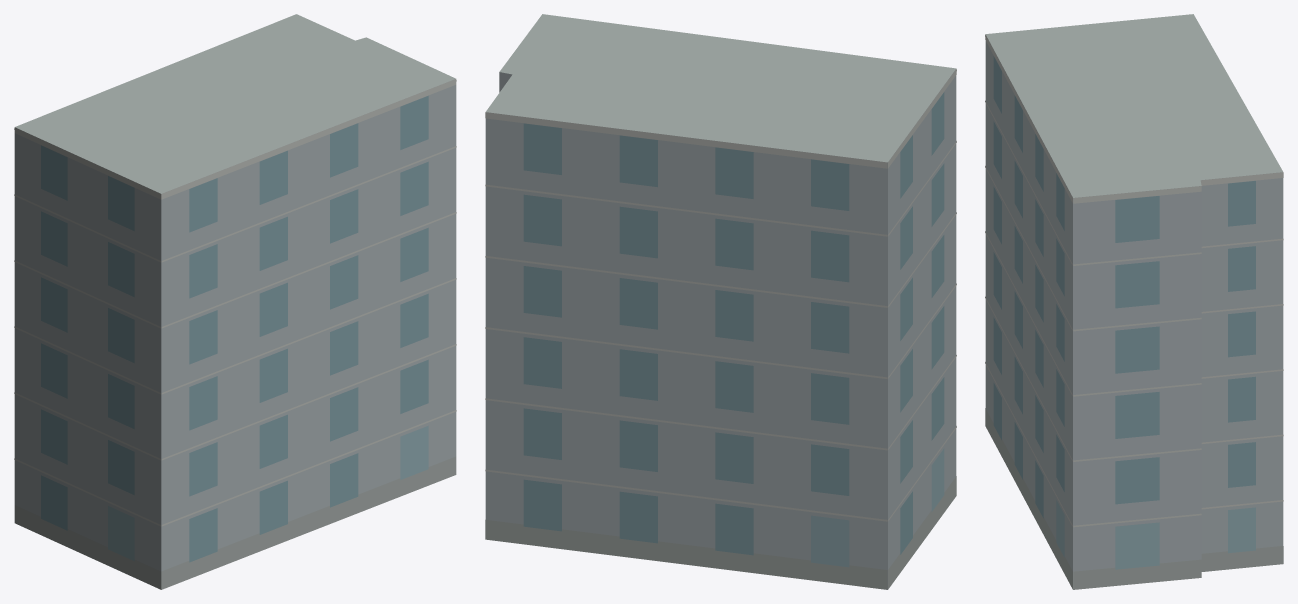
The model's file is survey-upis-32949561.glb.
3 renders of one model, left to right at view 1: azimuth 30°, elevation 25°; view 2: azimuth 150°, elevation 25°; view 3: azimuth 270°, elevation 25°, orthographic. The views are drawn at different scales.
Visible parts, largest first — view 1: survey-upis-32949561.tmp; view 2: survey-upis-32949561.tmp; view 3: survey-upis-32949561.tmp.
Boxes of the visible parts, x1=… form: survey-upis-32949561.tmp: x1=14, y1=14, x2=456, y2=589; survey-upis-32949561.tmp: x1=485, y1=14, x2=956, y2=589; survey-upis-32949561.tmp: x1=985, y1=14, x2=1283, y2=589.
Size of the model in its own units: 16.58 by 16.45 by 11.36.
